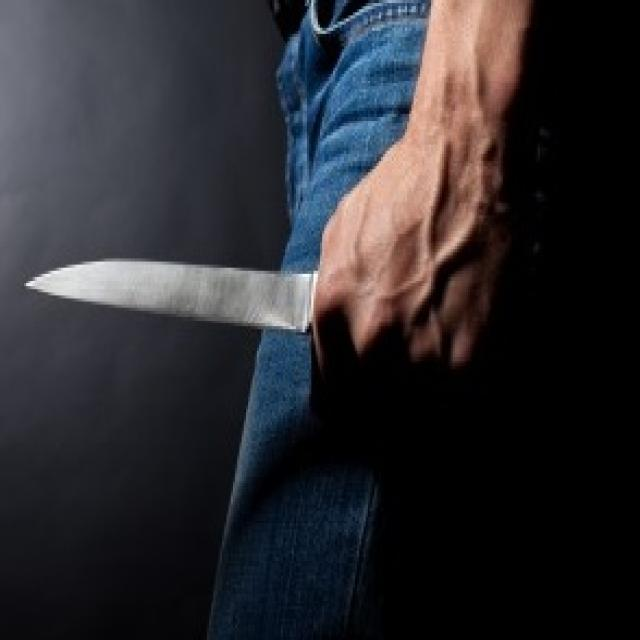knife: (18, 242, 336, 352)
